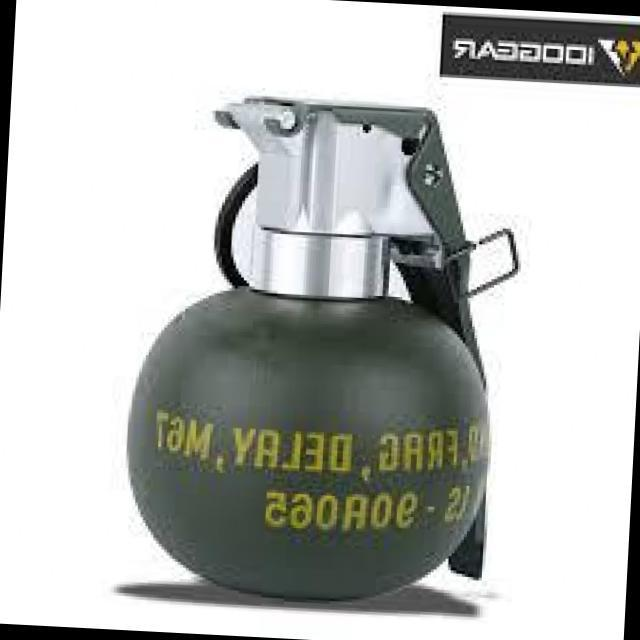grenade: (113, 75, 530, 612)
